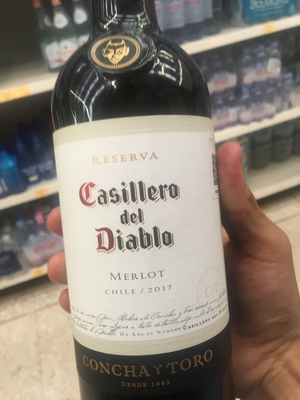casillero del diablo merlot: (47, 30, 238, 400)
